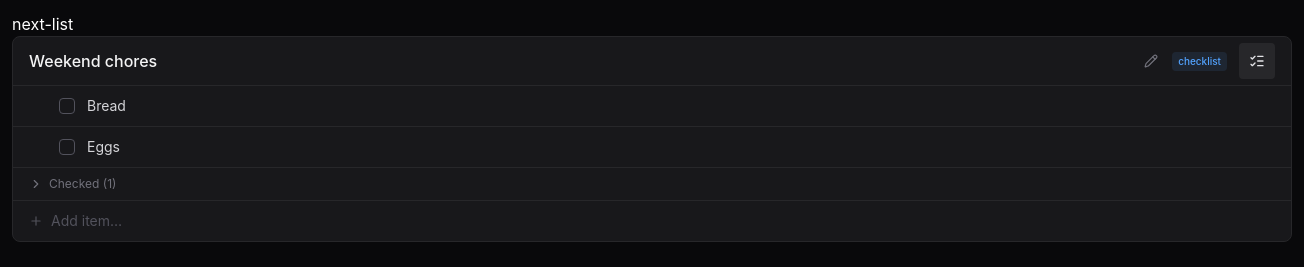
Test: ListDetailPage checked pile › re-reads the new list’s pile preference when only the route param changes
# Turn the pile off for list 1 only.
Click the button named "Sink checked items into a pile". click: [1257, 61]
box: [1239,43,1275,79]
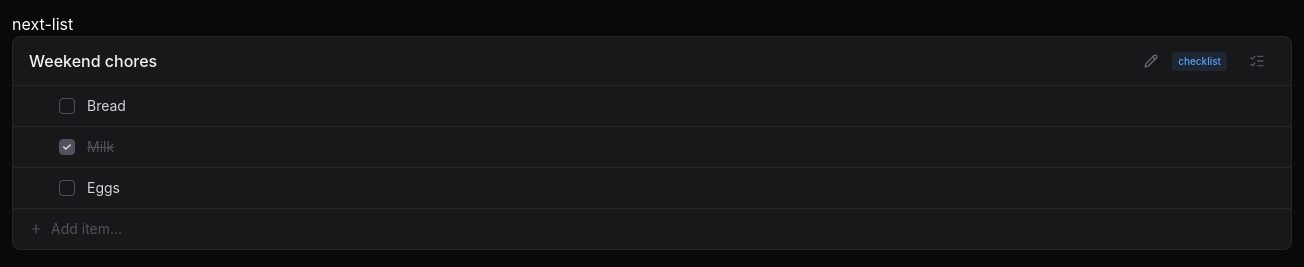
Check: the button "Checked (1)" is gone
# List 2 keeps its own (default-on) preference rather than inheriting list 1's state.
Click the link "next-list". click: [43, 24]
box: [12,14,73,34]
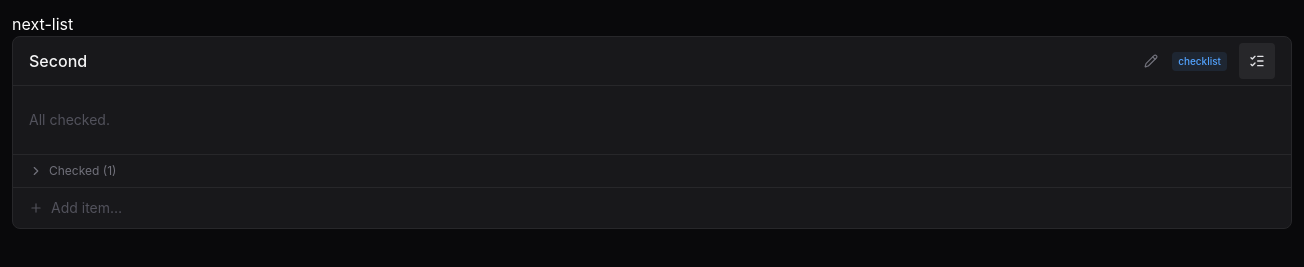
Check: the button "Checked (1)" is shown, box [13,154,1291,187]
